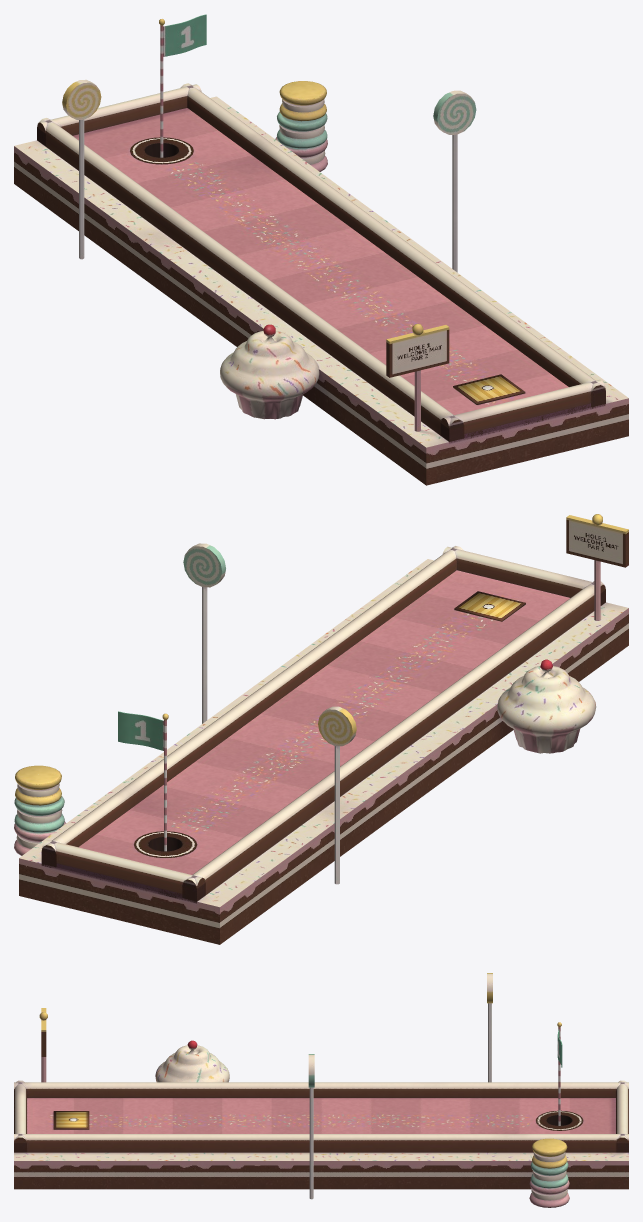
File: hole01.glb
The picture shows the model from 3 angles, top to bottom: view 1: azimuth 30°, elevation 25°; view 2: azimuth 150°, elevation 25°; view 3: azimuth 270°, elevation 25°; orthographic projection. The views are drawn at different scales.
Parts seen in each view (by area): view 1: Green, Base, Rails, Decor1, Decor3, HoleSign, Decor2, Decor4, Flag, Cup, TeeMat; view 2: Green, Base, Rails, Decor1, Decor3, HoleSign, Decor2, Decor4, Flag, Cup, TeeMat; view 3: Rails, Base, Green, Decor3, Decor1, Decor2, Cup, TeeMat, Decor4, HoleSign, Flag.
Boxes of the visible parts, bbox=[...] form: Green: bbox=[73, 108, 590, 438]; Base: bbox=[14, 96, 628, 485]; Rails: bbox=[37, 83, 605, 442]; Decor1: bbox=[220, 324, 319, 419]; Decor3: bbox=[275, 81, 327, 171]; HoleSign: bbox=[386, 323, 449, 431]; Decor2: bbox=[433, 90, 476, 272]; Decor4: bbox=[62, 79, 101, 259]; Flag: bbox=[159, 14, 206, 157]; Cup: bbox=[130, 137, 193, 164]; TeeMat: bbox=[453, 374, 525, 404]; Green: bbox=[56, 570, 569, 897]; Base: bbox=[19, 559, 628, 944]; Rails: bbox=[41, 546, 605, 903]; Decor1: bbox=[497, 659, 596, 753]; Decor3: bbox=[14, 765, 66, 855]; HoleSign: bbox=[566, 514, 628, 620]; Decor2: bbox=[183, 543, 225, 723]; Decor4: bbox=[318, 706, 356, 884]; Flag: bbox=[118, 711, 168, 851]; Cup: bbox=[134, 831, 197, 857]; TeeMat: bbox=[454, 591, 525, 621]; Rails: bbox=[14, 1080, 628, 1152]; Base: bbox=[14, 1152, 628, 1189]; Green: bbox=[27, 1098, 615, 1133]; Decor3: bbox=[529, 1138, 569, 1207]; Decor1: bbox=[155, 1040, 229, 1082]; Decor2: bbox=[308, 1054, 314, 1199]; Cup: bbox=[536, 1110, 583, 1130]; TeeMat: bbox=[53, 1111, 89, 1129]; Decor4: bbox=[487, 973, 492, 1082]; HoleSign: bbox=[39, 1008, 47, 1082]; Flag: bbox=[557, 1022, 562, 1125].
Size of what is drawn, in the model's own units: 2.93 by 1.59 by 6.2.
Materials: 1 (1 with a texture image).
